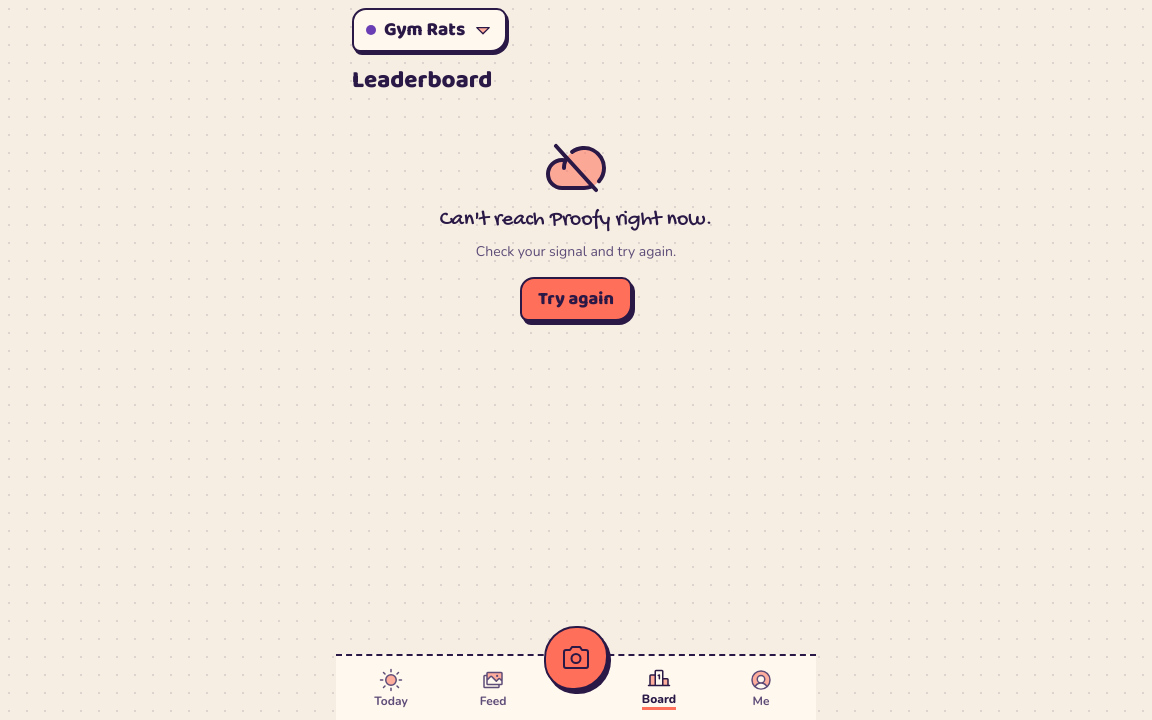
Test: Board (Story 4.3) › no cache and a failure: "Can't reach Proofy right now." with Try again
Expected: the text "Can't reach Proofy right now." is shown, [440,208,712,234]
Click the button "Try again".
click(576, 299)  # box [520,277,632,321]
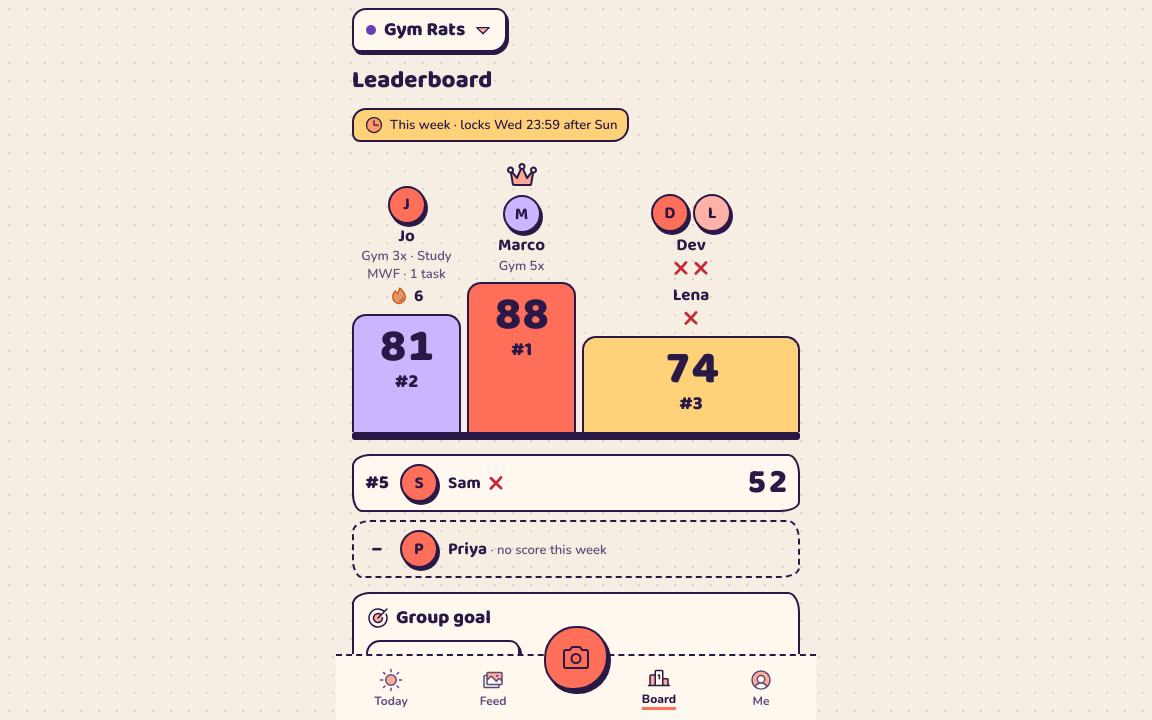
Now the list named "This week's podium" is shown, box [352,160,800,432]
